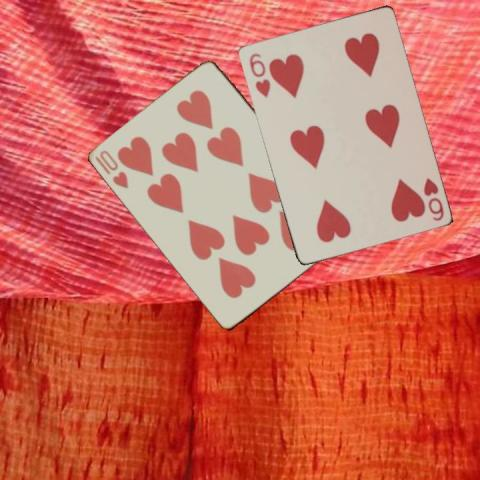10h: (92, 146, 131, 190)
6h: (246, 50, 271, 99), (420, 174, 445, 223)
